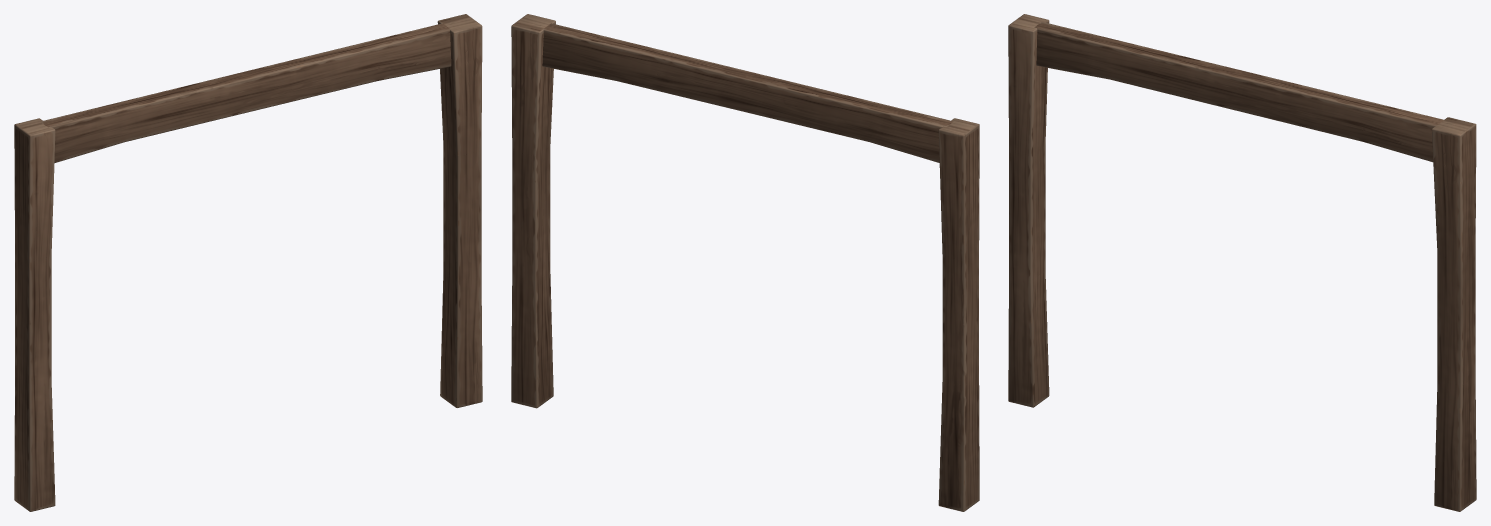
File: Hangar01B_1.FBX
3 renders of one model, left to right at view 1: azimuth 30°, elevation 25°; view 2: azimuth 150°, elevation 25°; view 3: azimuth 330°, elevation 25°, orthographic.
Visible parts, largest first — view 1: Hangar01B_1; view 2: Hangar01B_1; view 3: Hangar01B_1.
Boxes of the visible parts, bbox=[...] form: Hangar01B_1: bbox=[14, 14, 482, 511]; Hangar01B_1: bbox=[511, 14, 979, 511]; Hangar01B_1: bbox=[1008, 14, 1476, 511].
Size of what is drawn, in the model's own units: 4.4 by 3.5 by 0.2859.
